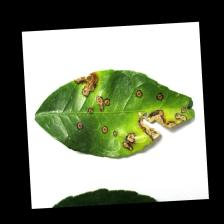canker: (79, 78, 184, 152)
